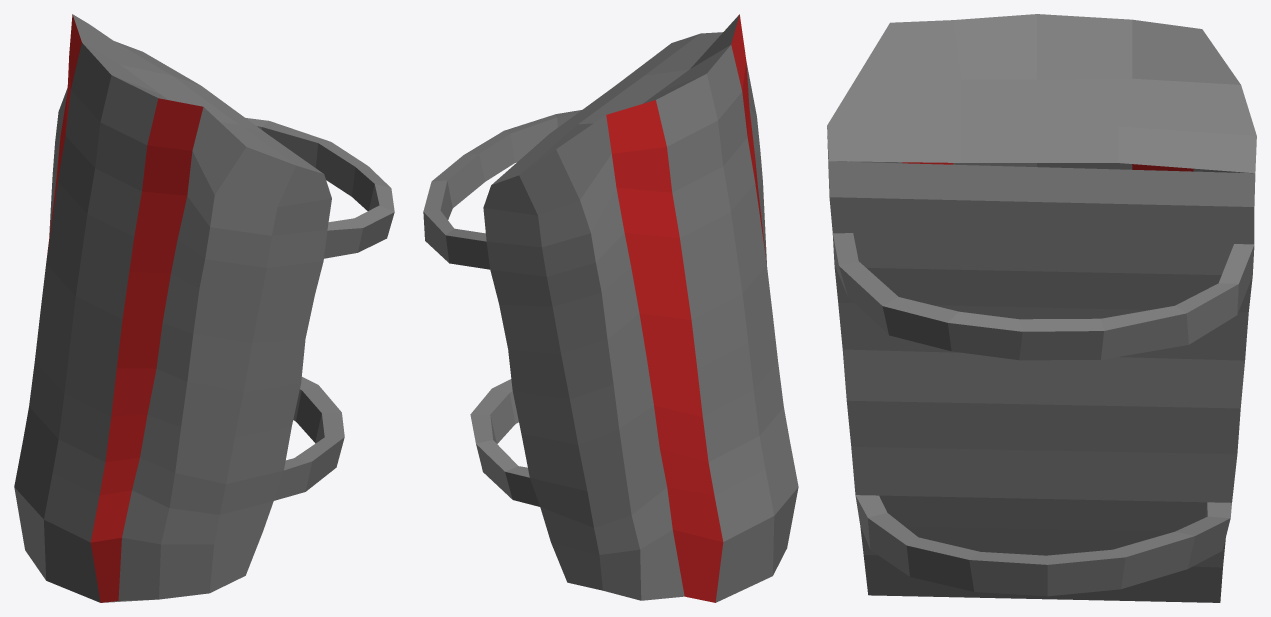
File: ArmPanzer.fbx
3 renders of one model, left to right at view 1: azimuth 30°, elevation 25°; view 2: azimuth 150°, elevation 25°; view 3: azimuth 270°, elevation 25°, orthographic. The views are drawn at different scales.
Parts seen in each view (by area): view 1: Würfel; view 2: Würfel; view 3: Würfel.
Part boxes in pixels (box(x1,y1,x2,y2)): Würfel: box(14, 14, 394, 602); Würfel: box(423, 14, 798, 602); Würfel: box(827, 14, 1256, 602).
Bounding box in the file's own units: 70.82 × 106 × 70.33.
